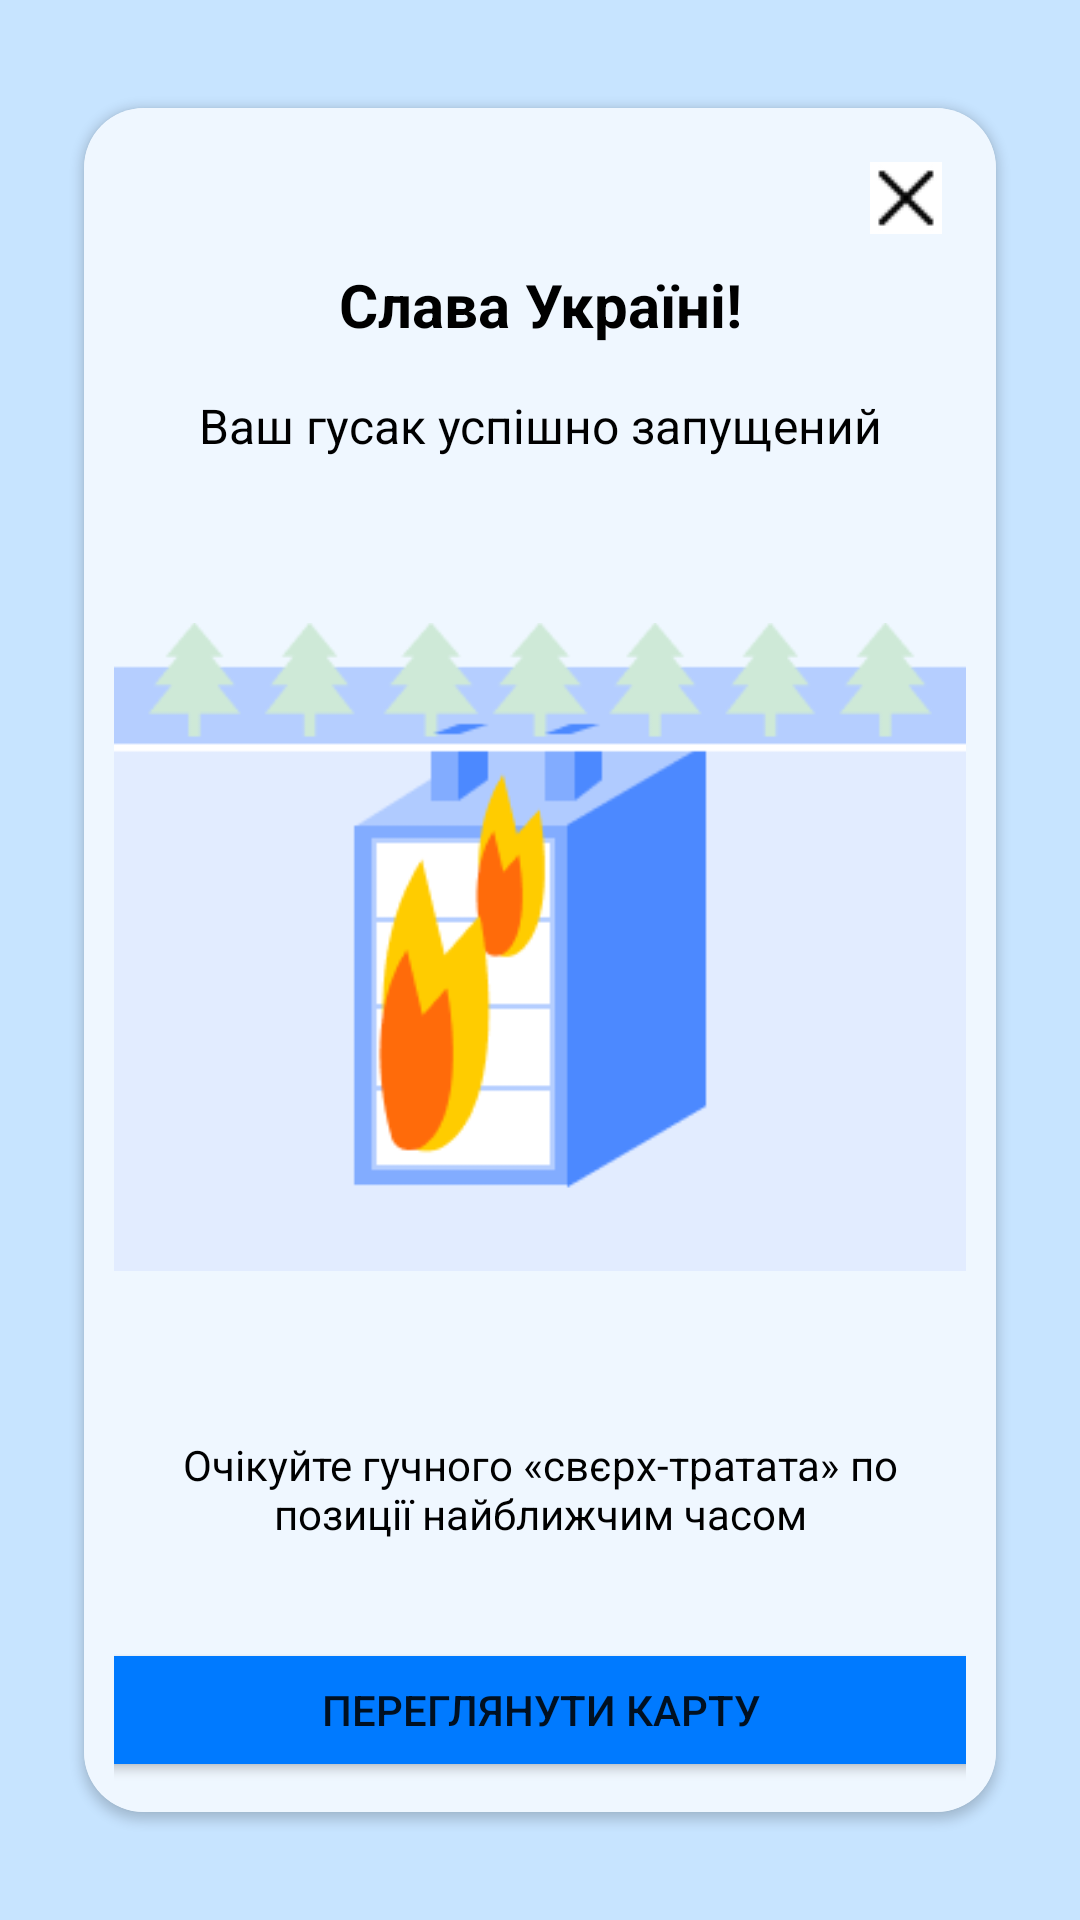

Screen size 1080×1920. Icon name, then its box in pixels as [left=x1, top=y1, right=x2, bottom=y2]:
exit: [left=870, top=162, right=942, bottom=234]
